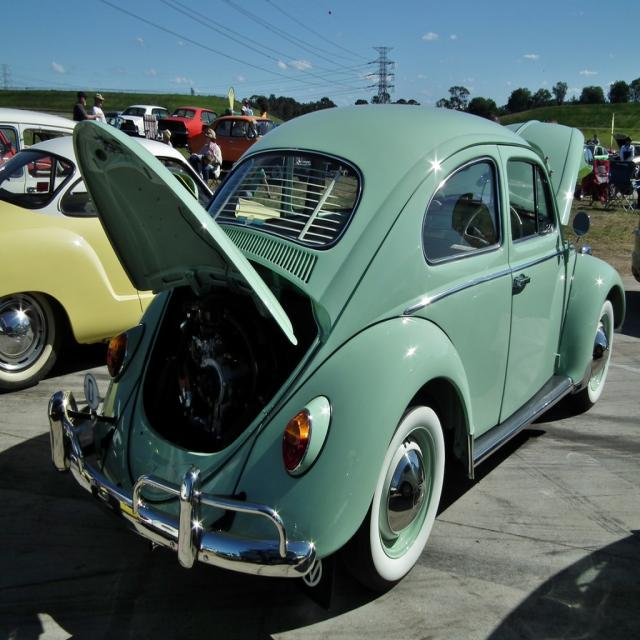car: (48, 119, 626, 579)
